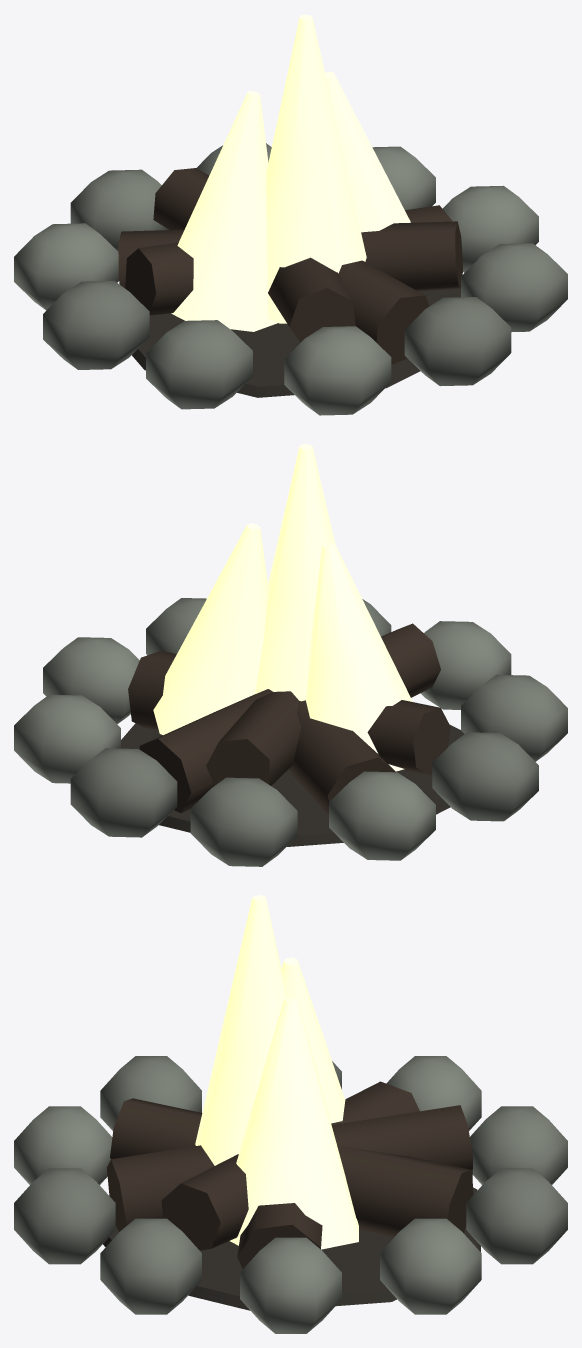
Rendered from Stations_Campfire.glb.
3 renders of one model, top to bottom at view 1: azimuth 30°, elevation 25°; view 2: azimuth 150°, elevation 25°; view 3: azimuth 270°, elevation 25°, orthographic. The views are drawn at different scales.
Visible parts, largest first — view 1: Flame1, Flame0, _MeshInstance3D_4174, _MeshInstance3D_4173, _MeshInstance3D_4175, _MeshInstance3D_4176, _MeshInstance3D_4185, _MeshInstance3D_4182, _MeshInstance3D_4172, _MeshInstance3D_4177, Flame2, _MeshInstance3D_4171 (+5 smaller); view 2: Flame2, Flame0, Flame1, _MeshInstance3D_4183, _MeshInstance3D_4179, _MeshInstance3D_4178, _MeshInstance3D_4176, _MeshInstance3D_4177, _MeshInstance3D_4184, _MeshInstance3D_4180, _MeshInstance3D_4175, _MeshInstance3D_4185 (+5 smaller); view 3: Flame2, _MeshInstance3D_4183, Flame1, _MeshInstance3D_4185, _MeshInstance3D_4172, _MeshInstance3D_4180, _MeshInstance3D_4171, _MeshInstance3D_4173, _MeshInstance3D_4179, _MeshInstance3D_4182, _MeshInstance3D_4181, _MeshInstance3D_4174 (+5 smaller).
Part boxes in pixels (bbox=[...]): Flame1: bbox=[266, 14, 366, 323]; Flame0: bbox=[171, 91, 277, 331]; _MeshInstance3D_4174: bbox=[284, 326, 391, 415]; _MeshInstance3D_4173: bbox=[404, 297, 511, 386]; _MeshInstance3D_4175: bbox=[146, 320, 252, 409]; _MeshInstance3D_4176: bbox=[43, 280, 149, 369]; _MeshInstance3D_4185: bbox=[153, 168, 429, 364]; _MeshInstance3D_4182: bbox=[118, 221, 462, 291]; _MeshInstance3D_4172: bbox=[461, 243, 567, 332]; _MeshInstance3D_4177: bbox=[14, 223, 118, 310]; Flame2: bbox=[325, 72, 410, 232]; _MeshInstance3D_4171: bbox=[442, 185, 538, 272]; Flame2: bbox=[153, 523, 268, 735]; Flame0: bbox=[306, 542, 412, 771]; Flame1: bbox=[255, 444, 335, 701]; _MeshInstance3D_4183: bbox=[139, 623, 440, 813]; _MeshInstance3D_4179: bbox=[70, 748, 177, 837]; _MeshInstance3D_4178: bbox=[190, 777, 297, 866]; _MeshInstance3D_4176: bbox=[432, 732, 538, 821]; _MeshInstance3D_4177: bbox=[329, 771, 435, 860]; _MeshInstance3D_4184: bbox=[128, 650, 450, 775]; _MeshInstance3D_4180: bbox=[14, 694, 120, 783]; _MeshInstance3D_4175: bbox=[461, 674, 567, 761]; _MeshInstance3D_4185: bbox=[206, 691, 301, 785]; Flame2: bbox=[230, 998, 358, 1249]; _MeshInstance3D_4183: bbox=[110, 1098, 473, 1237]; Flame1: bbox=[195, 895, 287, 1165]; _MeshInstance3D_4185: bbox=[107, 1105, 472, 1231]; _MeshInstance3D_4172: bbox=[100, 1218, 201, 1314]; _MeshInstance3D_4180: bbox=[380, 1218, 481, 1314]; _MeshInstance3D_4171: bbox=[240, 1237, 341, 1333]; _MeshInstance3D_4173: bbox=[14, 1168, 115, 1264]; _MeshInstance3D_4179: bbox=[466, 1168, 567, 1264]; _MeshInstance3D_4182: bbox=[161, 1081, 419, 1250]; _MeshInstance3D_4181: bbox=[103, 1187, 480, 1310]; _MeshInstance3D_4174: bbox=[14, 1106, 112, 1184].
Bounding box in the file's own units: 1.46 × 0.92 × 1.4.
